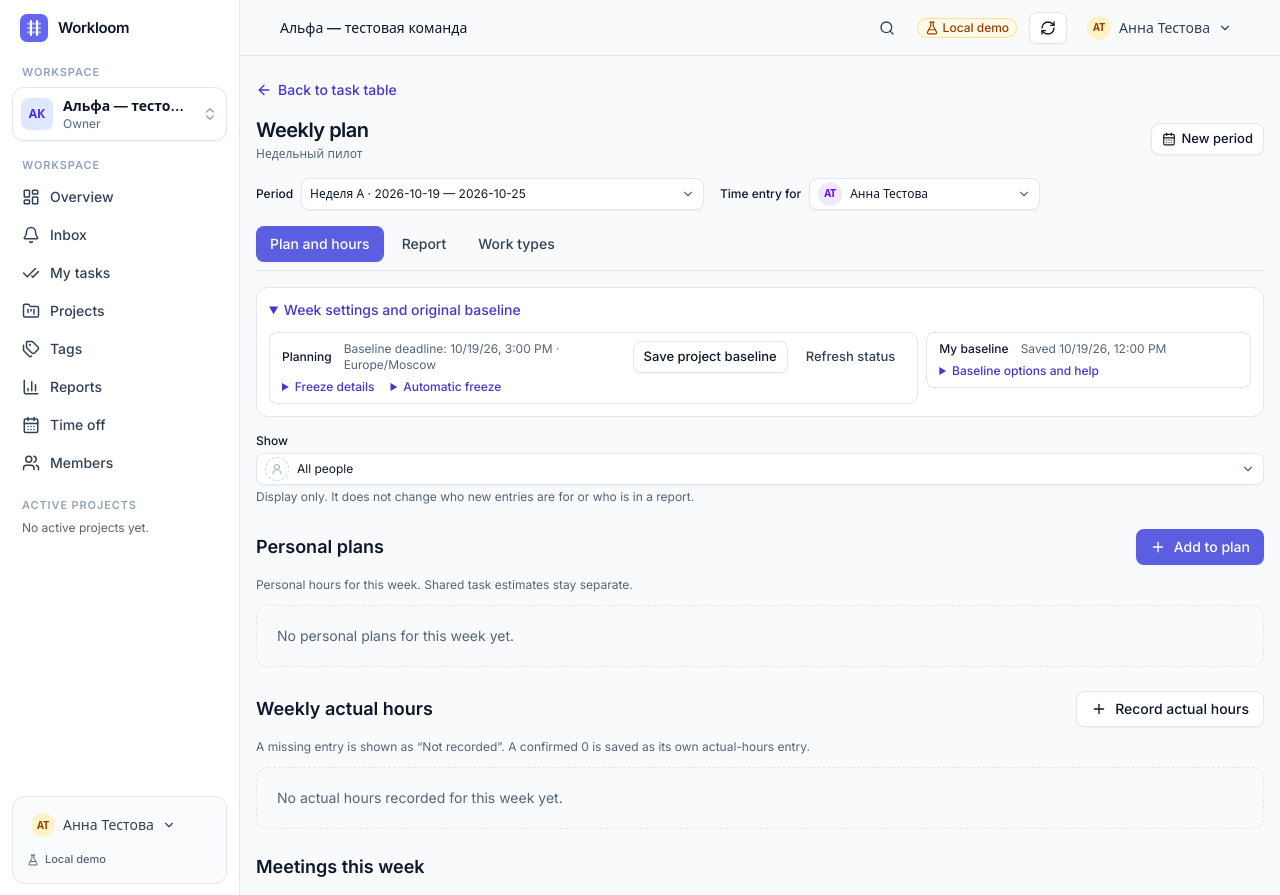
latest saved weekly report › reads the latest report only after the report view is opened
Expected: the button "Add to plan" is shown, [1136,529,1264,565]
Step 1. Click the button "Report" → (424, 244), box [388,226,460,262]
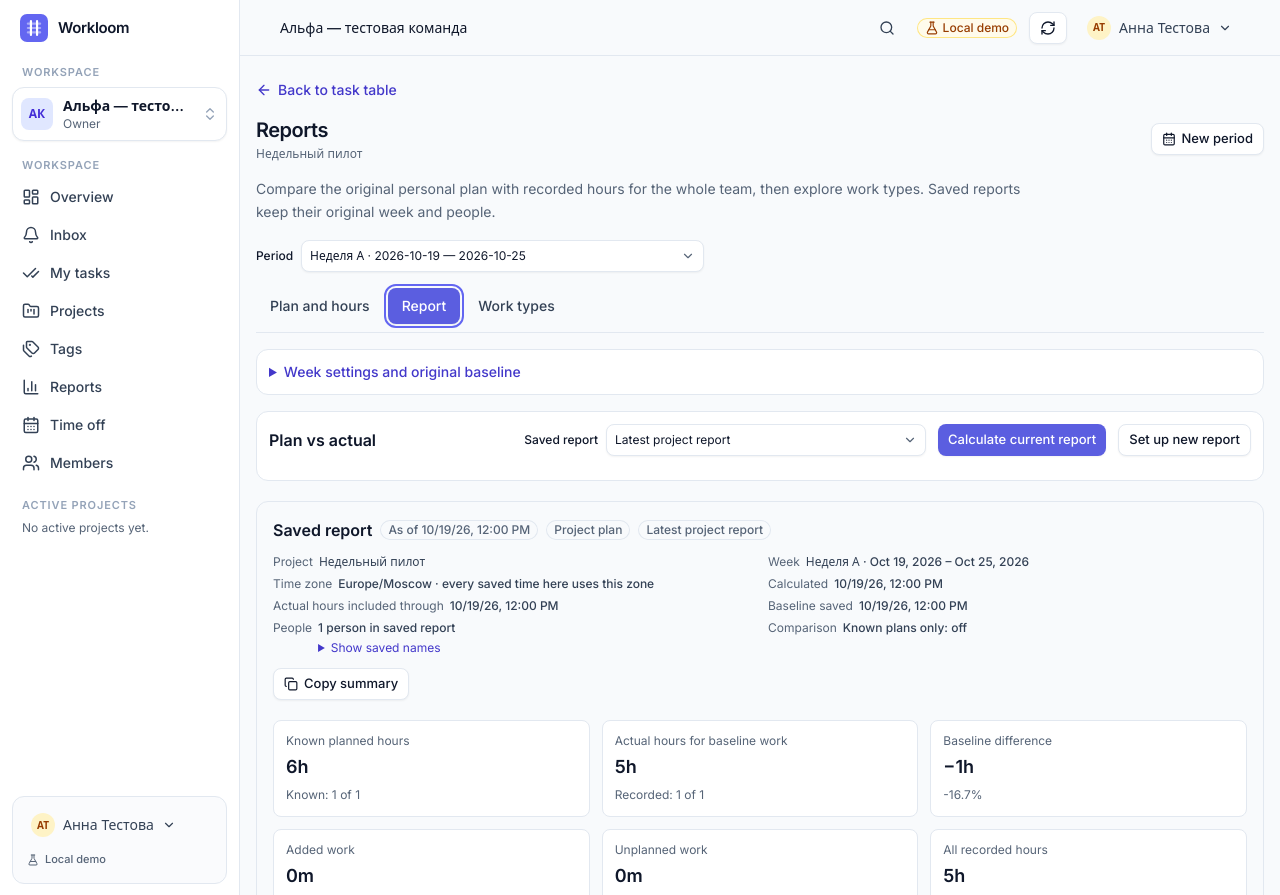
Result: the text "Latest project report" next to "Project plan" is shown at [646,522,763,536]
